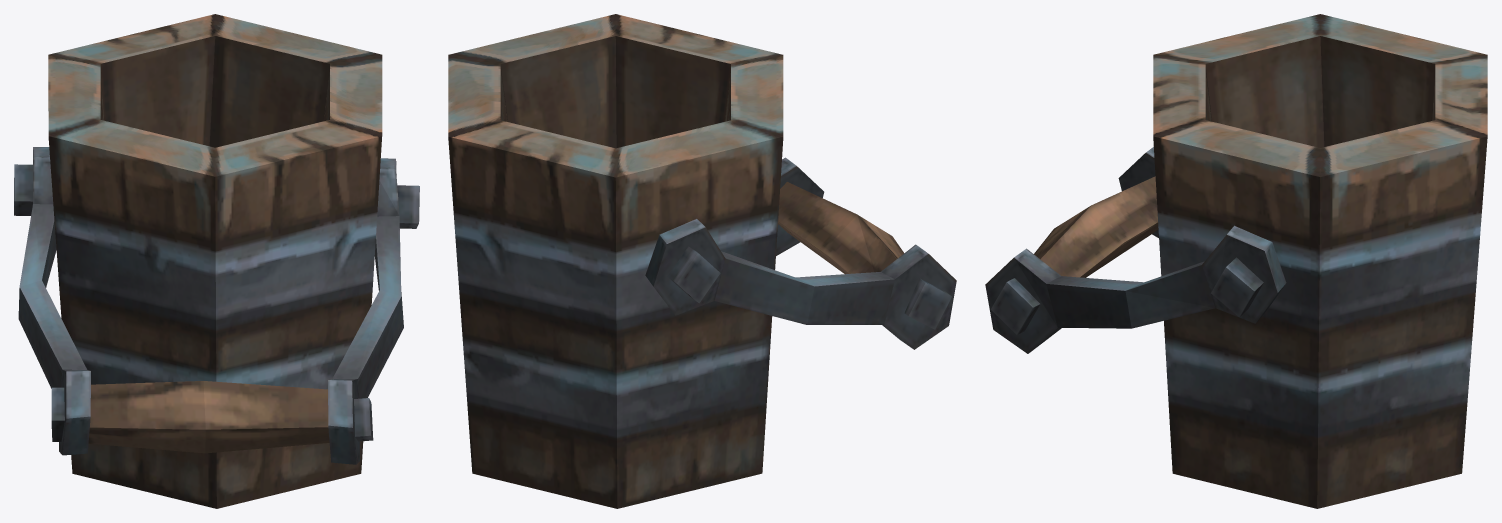
The model's file is mine_bucket01.fbx.
3 renders of one model, left to right at view 1: azimuth 30°, elevation 25°; view 2: azimuth 150°, elevation 25°; view 3: azimuth 270°, elevation 25°, orthographic.
Visible parts, largest first — view 1: obj0.003; view 2: obj0.003; view 3: obj0.003.
Part boxes in pixels (box(x1,y1,x2,y2)): obj0.003: box(14, 14, 419, 508); obj0.003: box(448, 14, 956, 508); obj0.003: box(985, 14, 1487, 508).
Size of the model in its own units: 0.9605 by 0.7581 by 0.9966.
